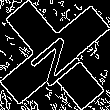N_NE: (23, 23, 87, 87)
